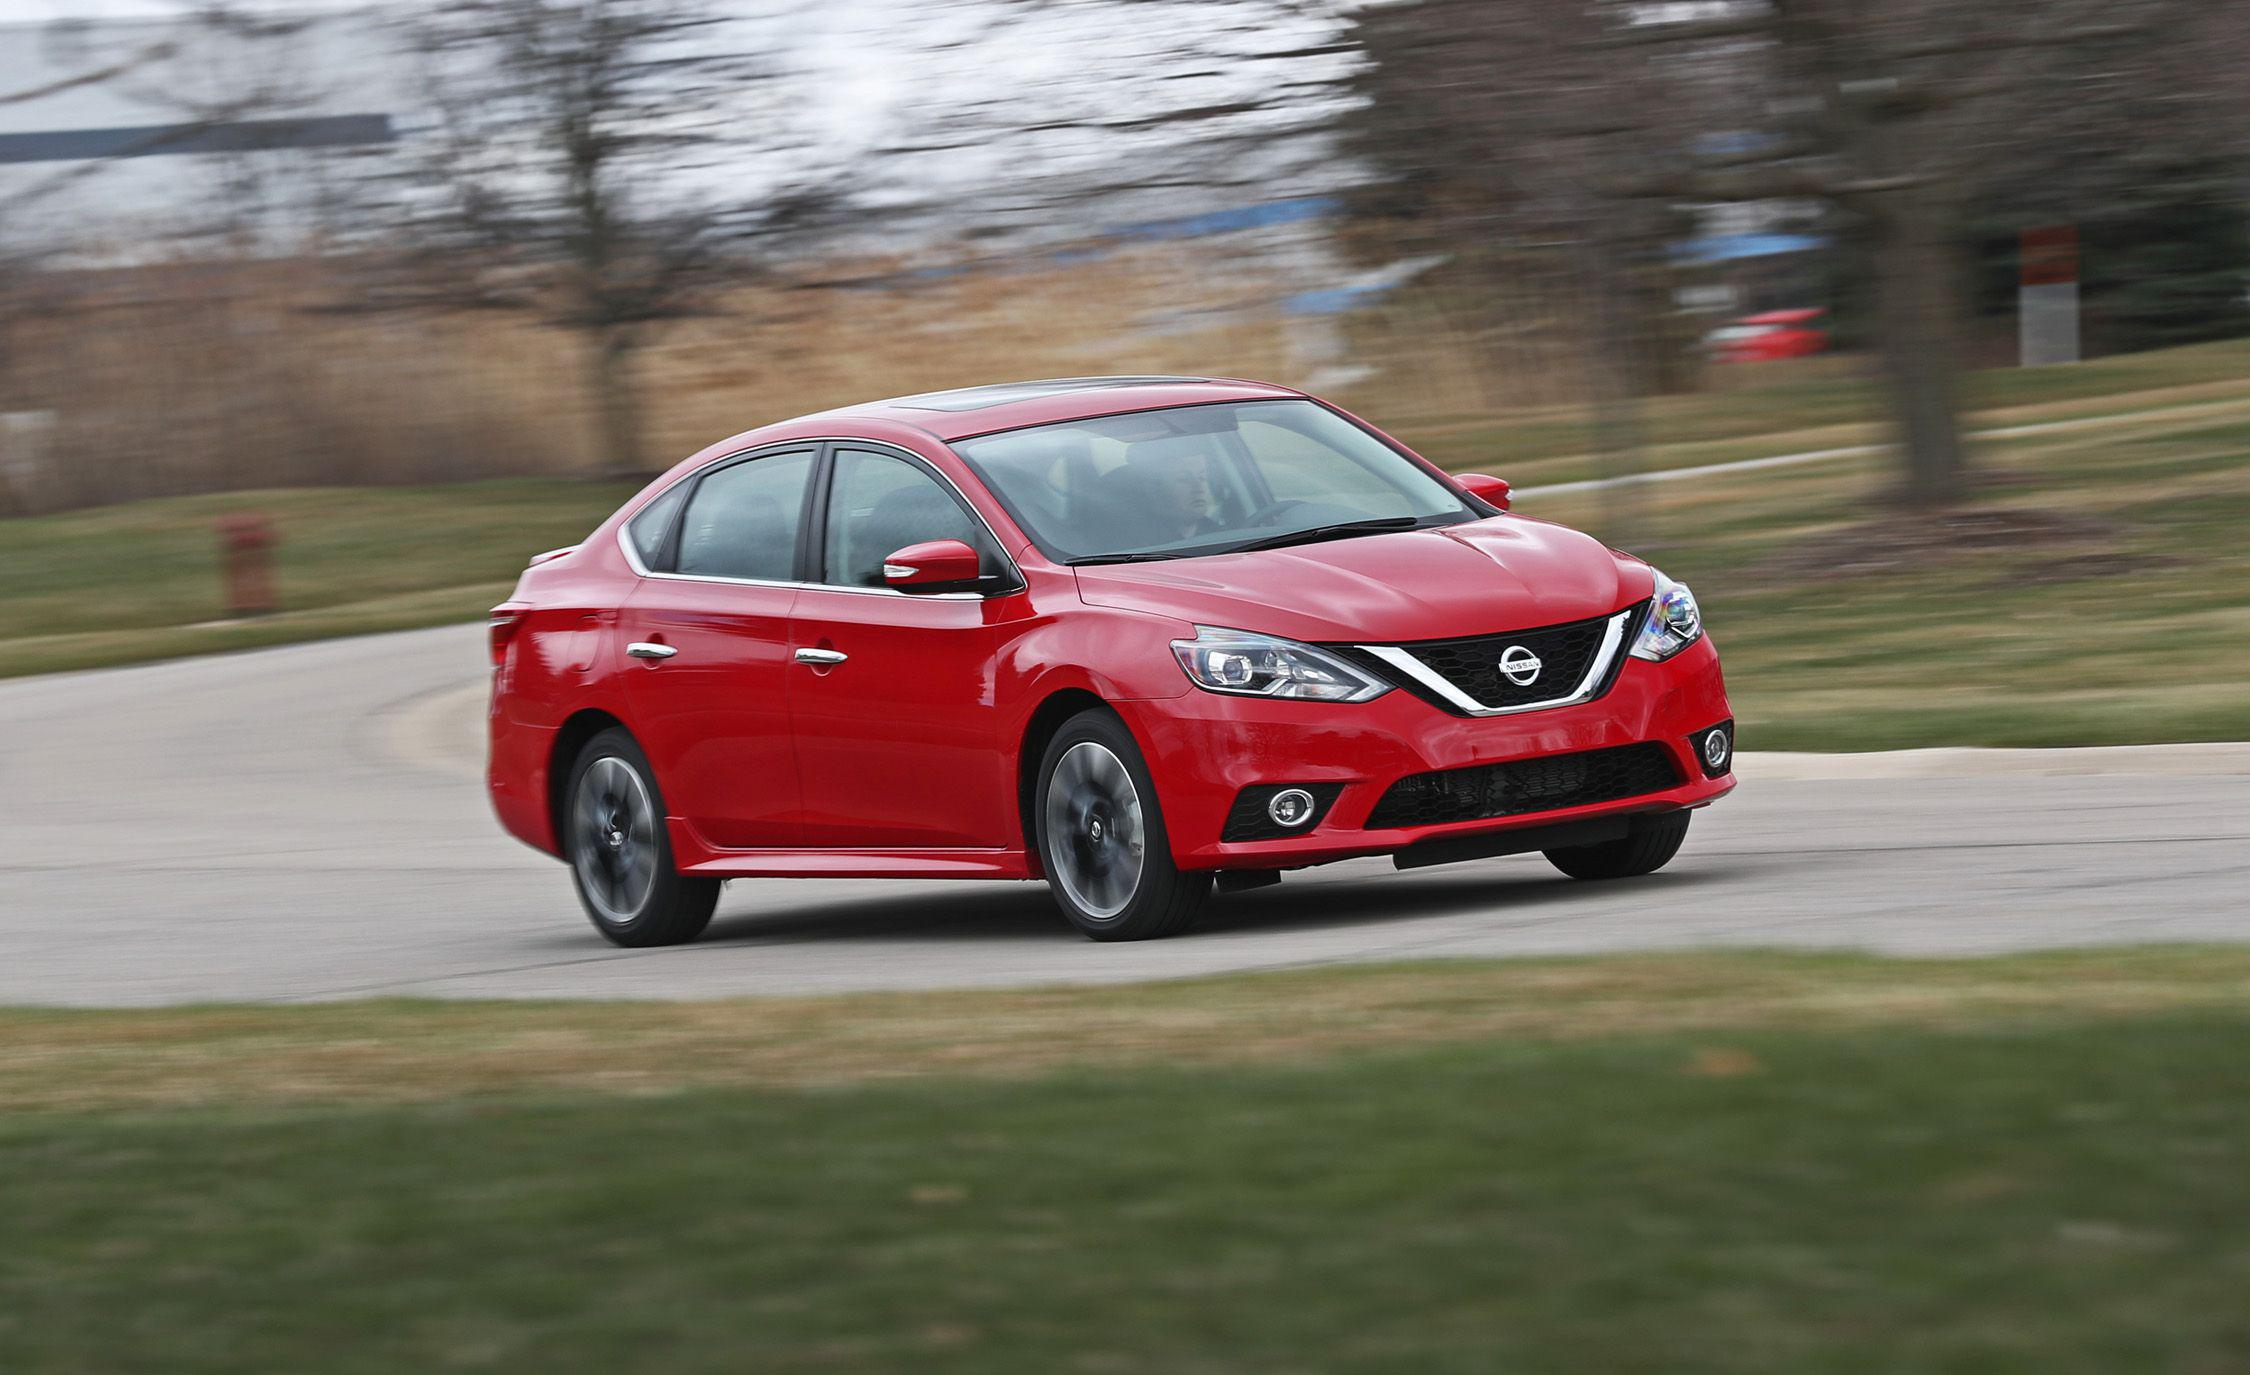car: (415, 292, 1845, 1001)
